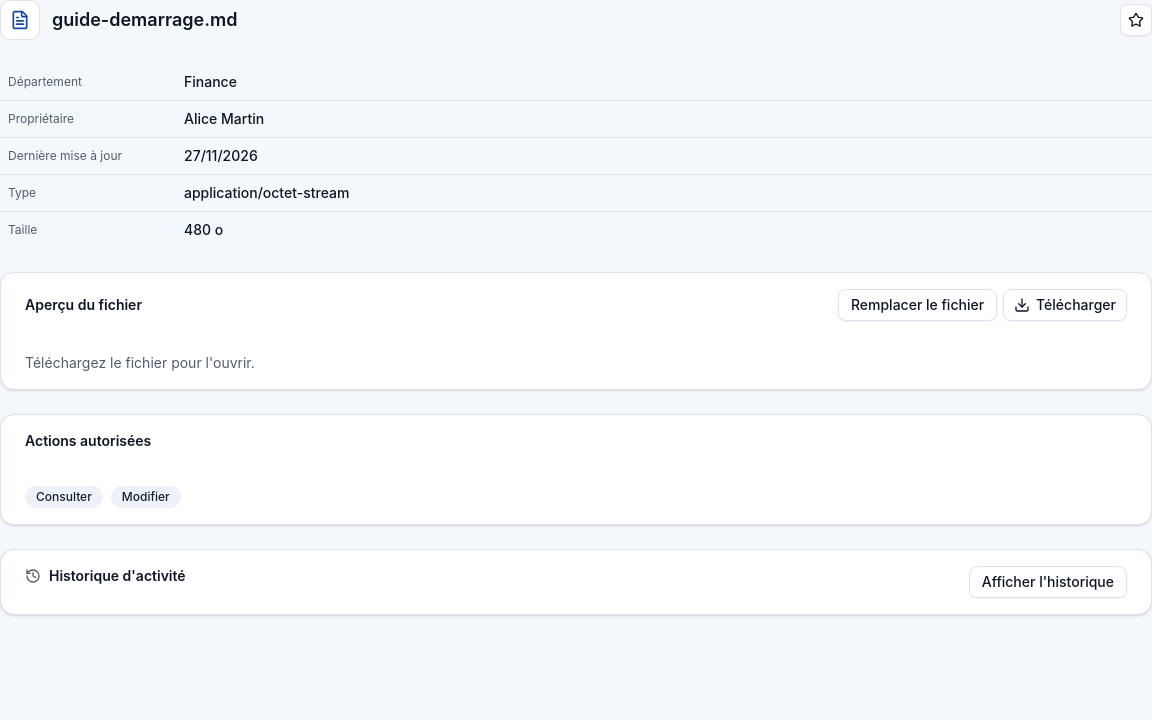
Test: ActivityFeedPanel & NodeActivitySection (T37) › charge l'historique d'un document à la demande dans DocumentDetails et gère pagination et 404
The width and height of the screenshot is (1152, 720).
Step 1. Click the button "Afficher l'historique" → click(1048, 582), box x1=969 y1=566 x2=1127 y2=598
(page scrolled)
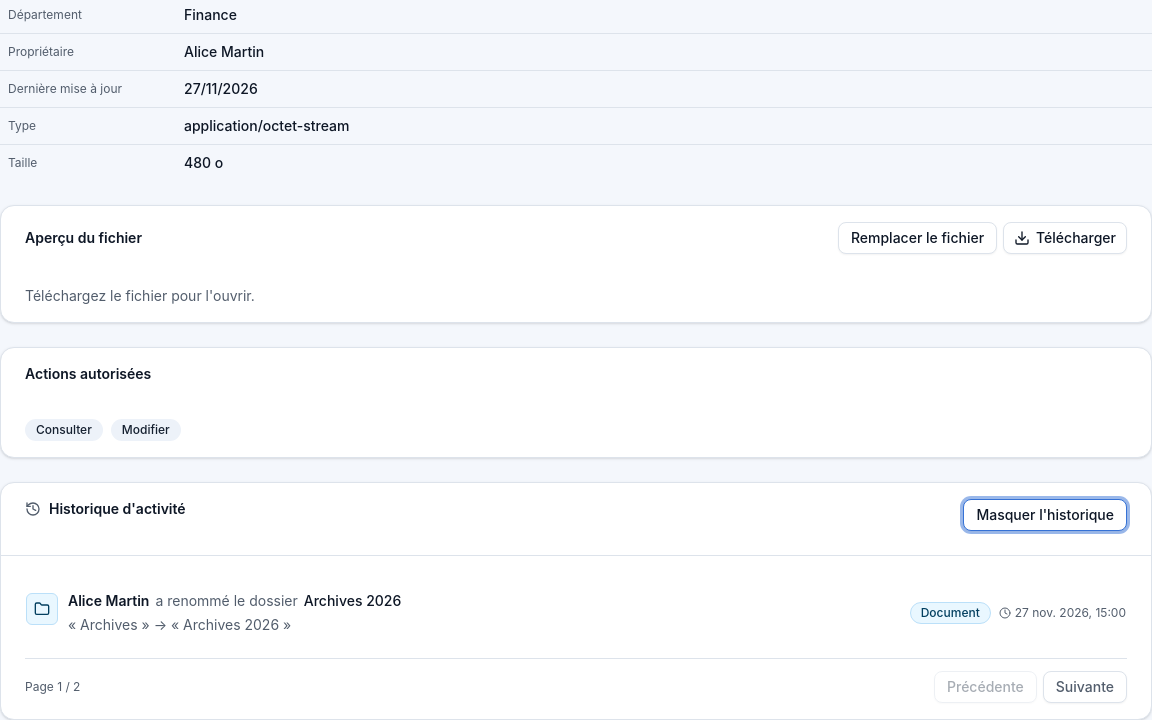
Expected: the text "Archives 2026" is shown, x1=304 y1=591 x2=401 y2=610
Expected: the text "« Archives » → « Archives 2026 »" is shown, x1=68 y1=616 x2=291 y2=633
Expected: the button "Masquer l'historique" is expanded, x1=964 y1=499 x2=1127 y2=531
Step 2. Click the button "Suivante" → click(1085, 687), box x1=1043 y1=671 x2=1127 y2=703
(page scrolled)
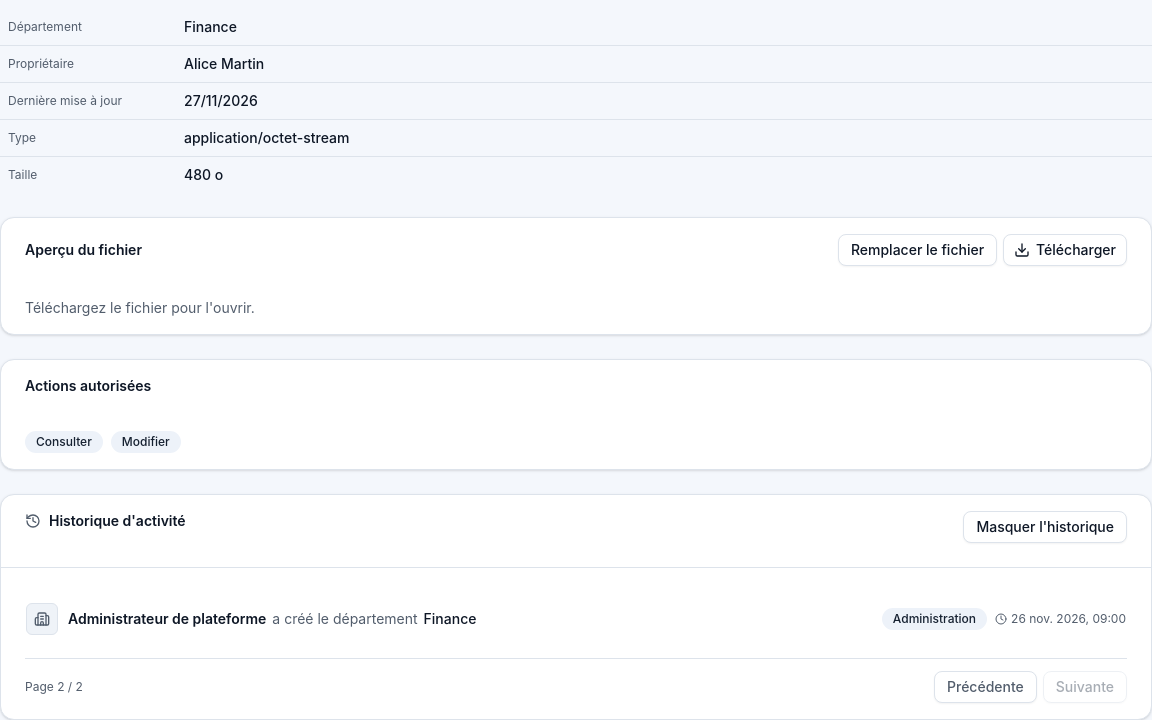
Expected: the text "Administrateur de plateforme" is shown, x1=68 y1=609 x2=266 y2=629
